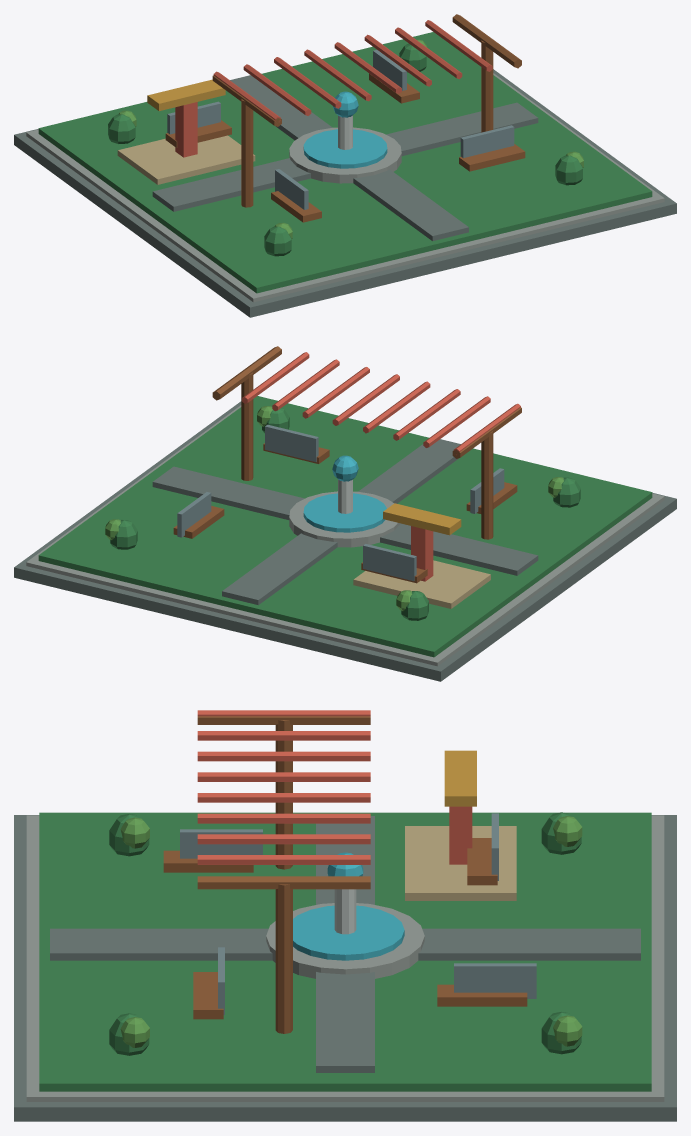
Rendered from park_lv2.glb.
3 views of the same model, one above another, from view 1: azimuth 30°, elevation 25°; view 2: azimuth 150°, elevation 25°; view 3: azimuth 270°, elevation 25° (orthographic). The views are drawn at different scales.
Visible parts, largest first — view 1: rough, metallic, glossy; view 2: rough, metallic, glossy; view 3: rough, metallic, glossy.
Part boxes in pixels (x1,y1,x2,y2): rough: [14, 14, 676, 317]; metallic: [167, 50, 514, 209]; glossy: [303, 91, 387, 168]; rough: [14, 346, 676, 681]; metallic: [177, 424, 504, 581]; glossy: [303, 455, 386, 532]; rough: [14, 710, 676, 1121]; metallic: [180, 813, 536, 1014]; glossy: [293, 852, 404, 960].
Size of the model in its own units: 9.6 by 2.81 by 9.2.
